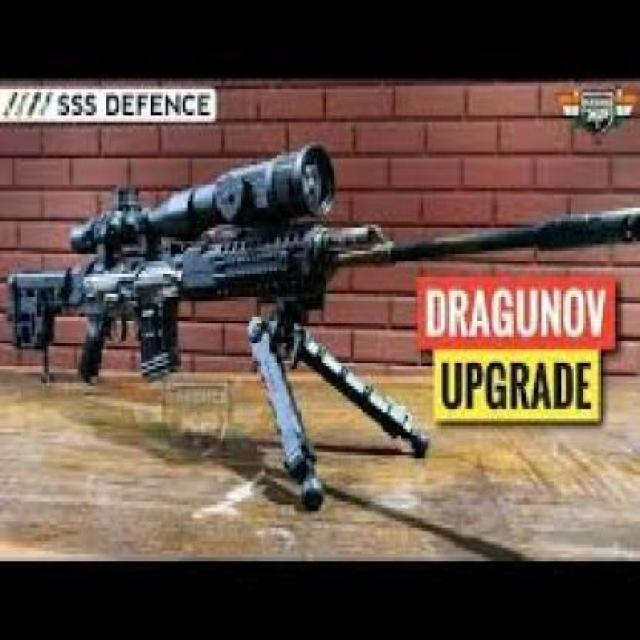weapon: (10, 140, 630, 518)
